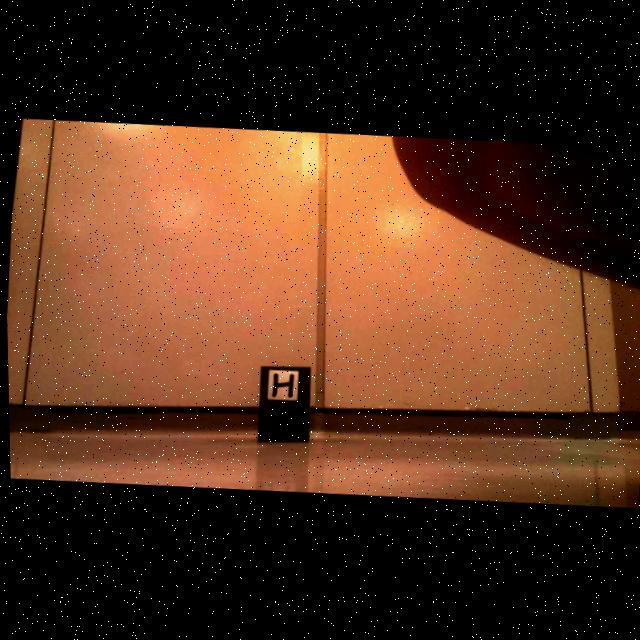H: (270, 374, 291, 399)
